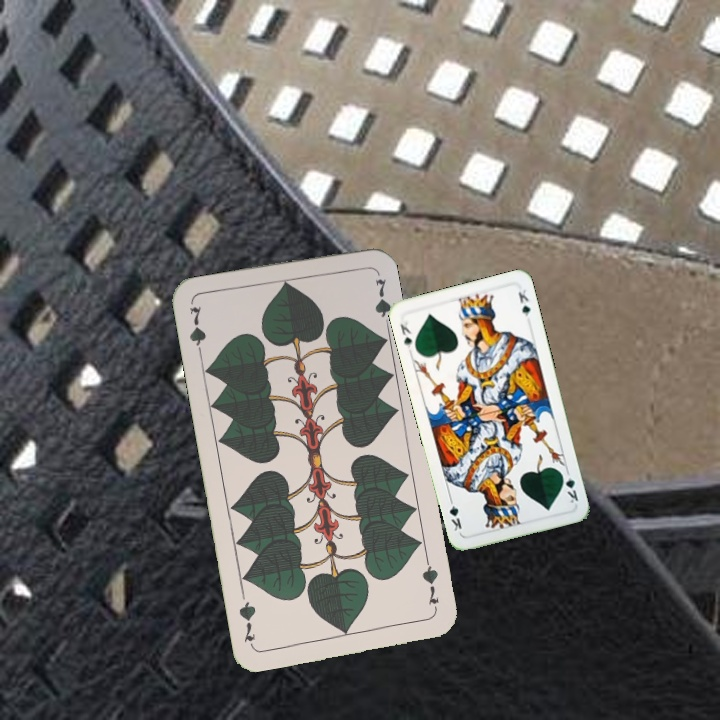G7: (185, 302, 209, 361), (418, 555, 442, 614)
GK: (557, 466, 581, 506), (396, 318, 415, 351)
